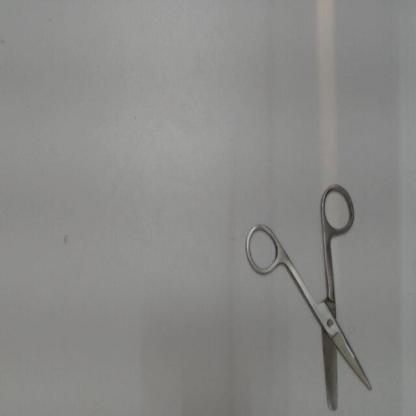Dressing Scissors: (236, 172, 380, 414)
